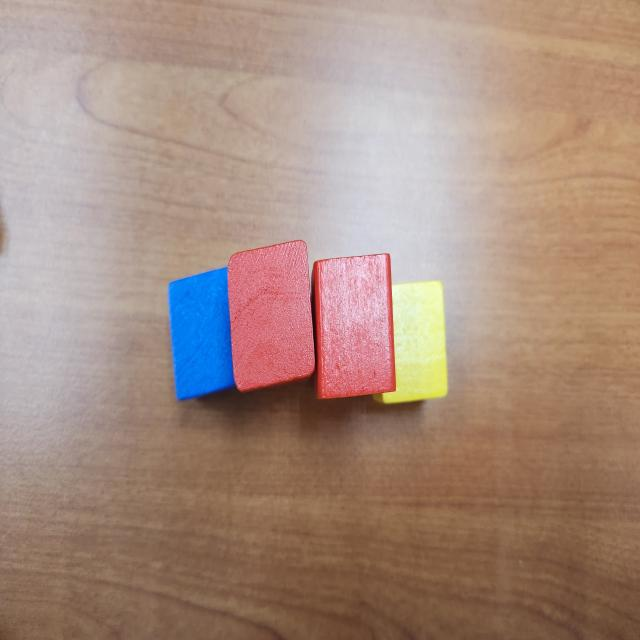blue: (168, 268, 235, 402)
red: (227, 239, 317, 395), (311, 253, 397, 400)
yellow: (371, 280, 448, 406)
